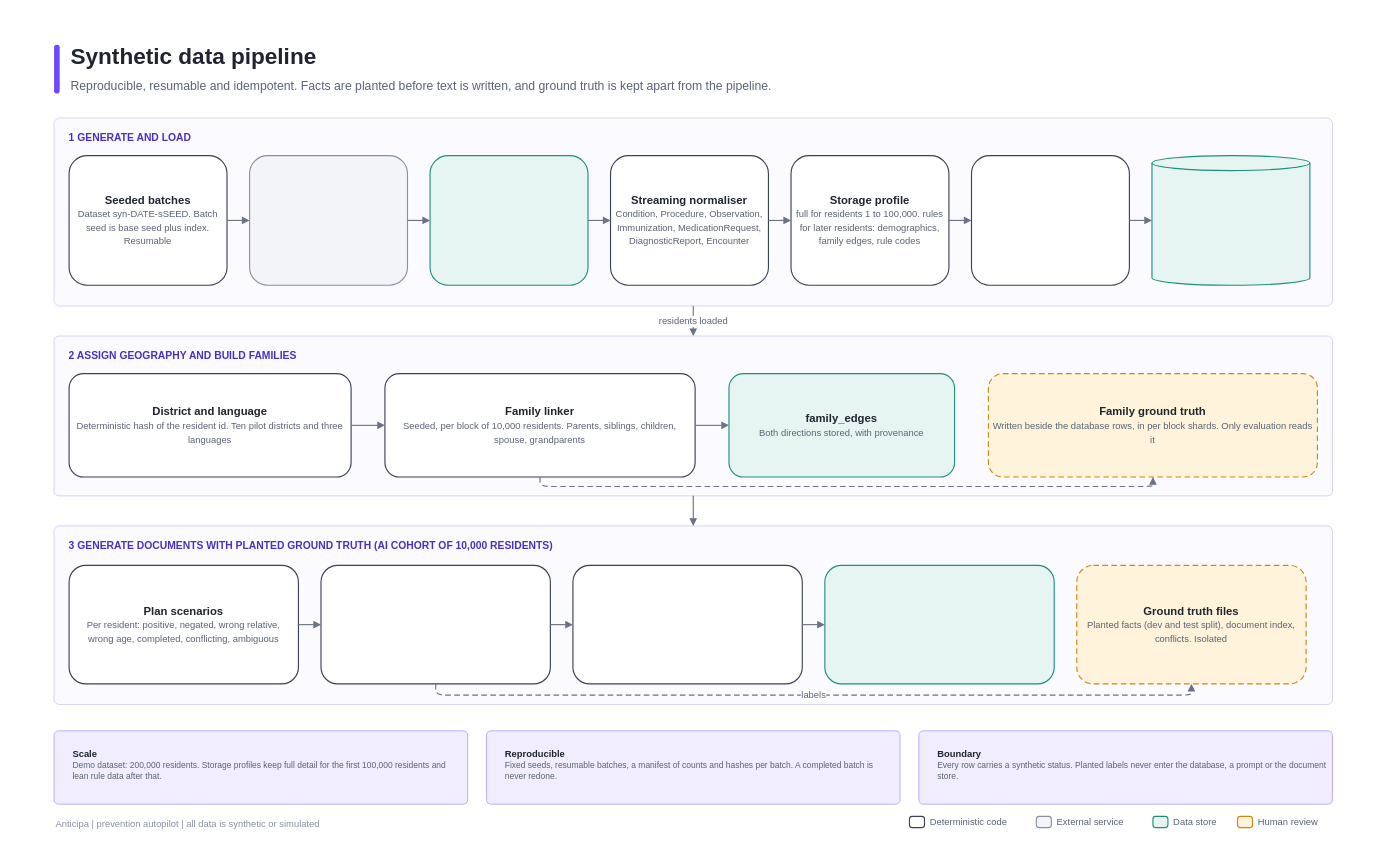
Image size: 1386x859. Some labels were removed from this diagram. Each missing label, with the centre of its shape:
Bulk load COPY, ON CONFLICT DO NOTHING. UUIDv5 ids make re-ingestion safe: point (1050, 220)
Document store Files plus a documents table with a content hash: point (939, 624)
MITRE Synthea 6 workers. FHIR R4 bulk NDJSON per batch: point (328, 220)
Plant facts first Every statement carries its label before any text exists: point (435, 624)
PostgreSQL residents, clinical_records: point (1230, 220)
Raw NDJSON.gz Kept compressed per batch on disk for provenance: point (508, 220)
Render text Templated documents in English, Hindi and Arabic: point (687, 624)
